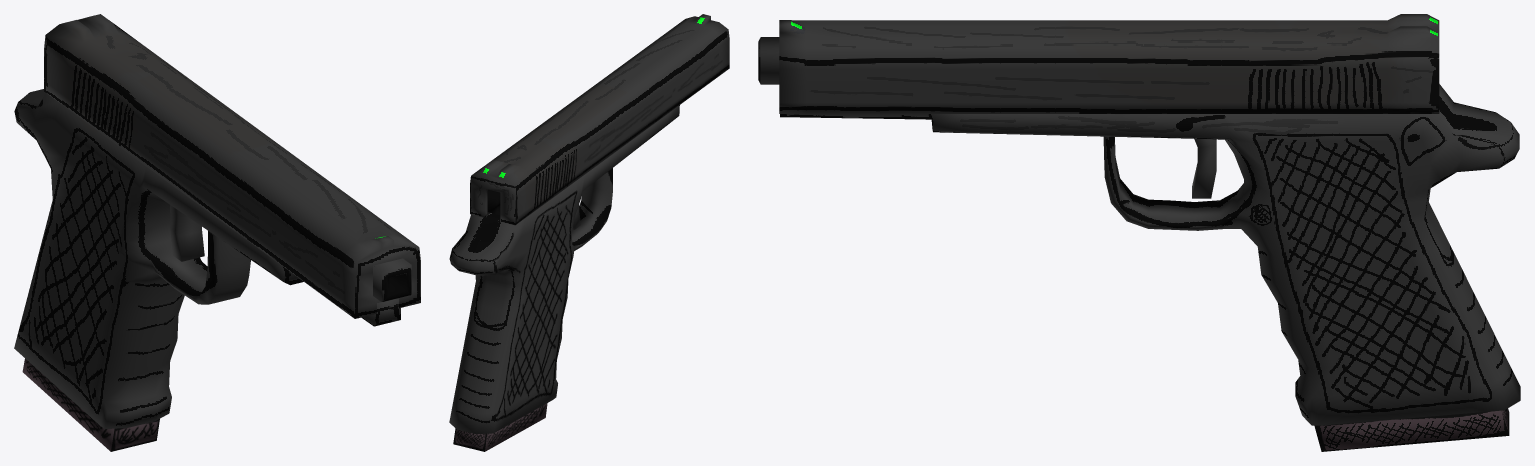
File: xPistol.glb
3 renders of one model, left to right at view 1: azimuth 30°, elevation 25°; view 2: azimuth 150°, elevation 25°; view 3: azimuth 270°, elevation 25°, orthographic. The views are drawn at different scales.
Parts seen in each view (by area): view 1: pistolFrame, pistolSlide, magazine, pistolTrigger; view 2: pistolFrame, pistolSlide, magazine; view 3: pistolFrame, pistolSlide, magazine, pistolTrigger.
Part boxes in pixels (<box>): pistolFrame: <box>14,89,411,429</box>; pistolSlide: <box>44,14,420,318</box>; magazine: <box>22,358,159,451</box>; pistolTrigger: <box>170,205,204,261</box>; pistolFrame: <box>449,105,679,433</box>; pistolSlide: <box>470,14,729,225</box>; magazine: <box>453,403,547,451</box>; pistolFrame: <box>758,37,1520,425</box>; pistolSlide: <box>779,14,1439,113</box>; magazine: <box>1314,408,1509,451</box>; pistolTrigger: <box>1192,139,1216,198</box>.
Size of the model in its own units: 0.395 by 2.24 by 3.73.
Materials: 2 (2 with a texture image).
